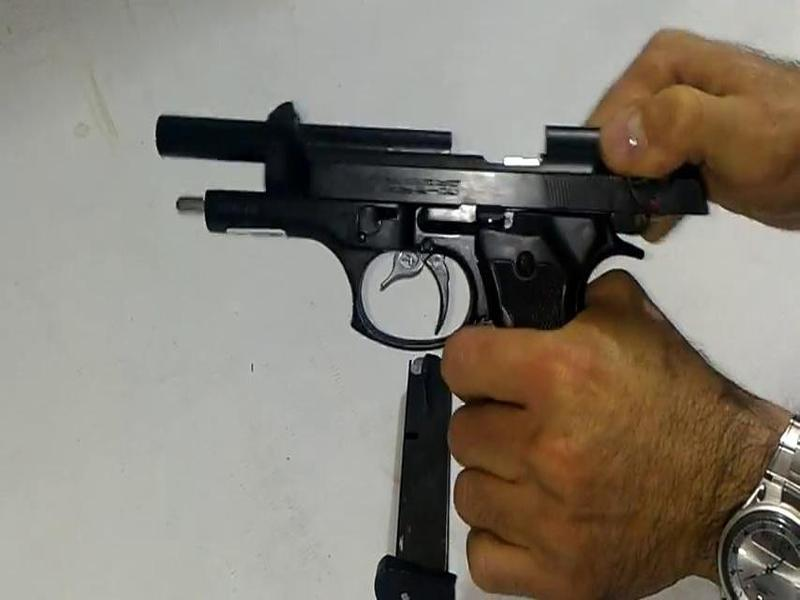Pistola: (115, 70, 728, 460)
